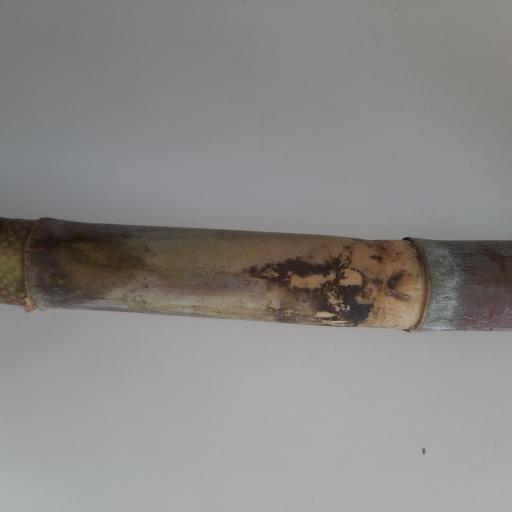Bud: (386, 270, 424, 301)
